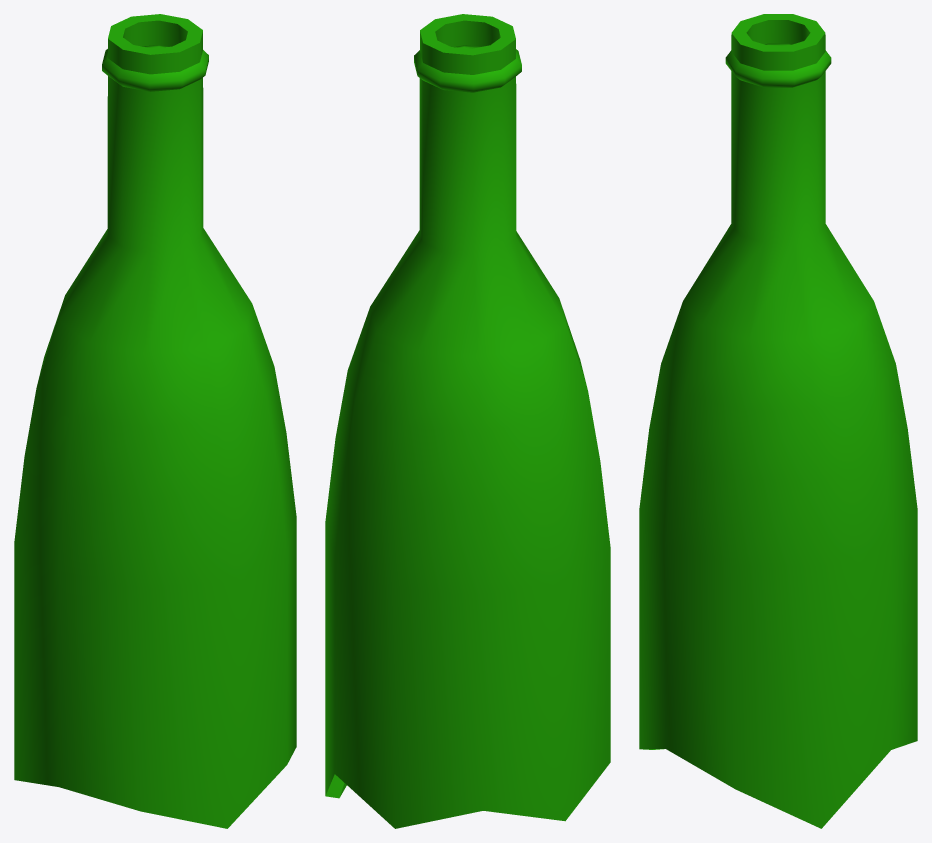
The model's file is BrokenWineBottleUpperVar2.fbx.
The picture shows the model from 3 angles, left to right: view 1: azimuth 30°, elevation 25°; view 2: azimuth 150°, elevation 25°; view 3: azimuth 270°, elevation 25°; orthographic projection. The views are drawn at different scales.
Visible parts, largest first — view 1: BrokenWineBottleUpperVar2; view 2: BrokenWineBottleUpperVar2; view 3: BrokenWineBottleUpperVar2.
Boxes of the visible parts, x1,y1,x2,y2 form: BrokenWineBottleUpperVar2: (14, 14, 296, 828); BrokenWineBottleUpperVar2: (325, 14, 610, 828); BrokenWineBottleUpperVar2: (639, 14, 917, 828).
Size of the model in its own units: 23.75 by 73.28 by 24.97.
